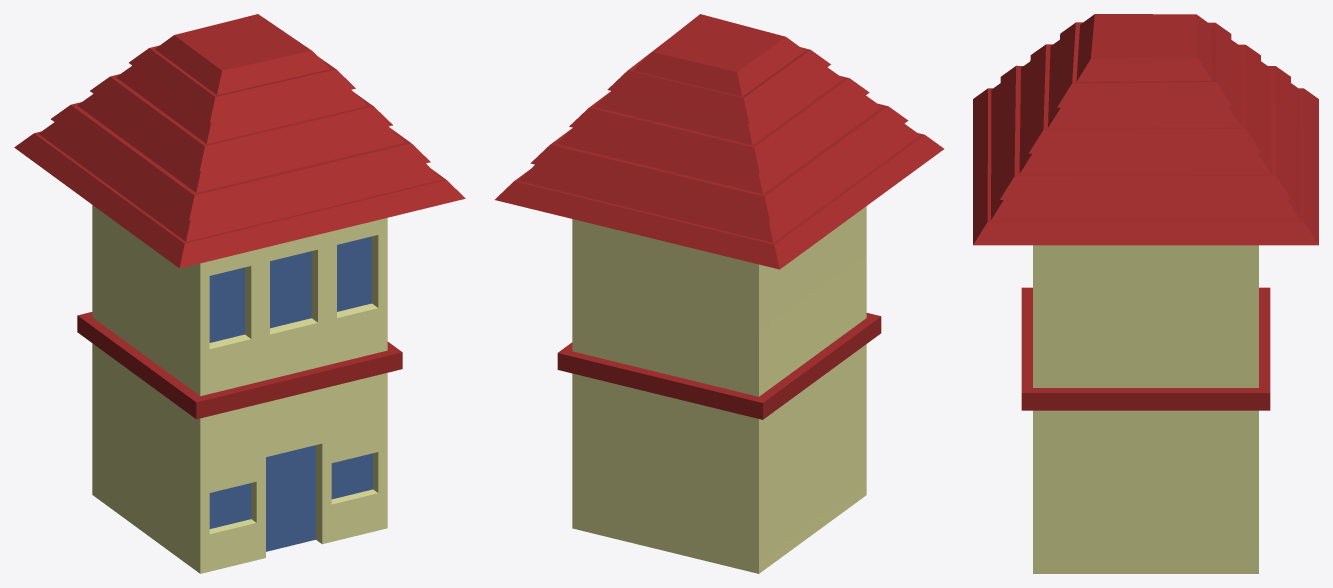
The model's file is 078 House.fbx.
3 renders of one model, left to right at view 1: azimuth 30°, elevation 25°; view 2: azimuth 150°, elevation 25°; view 3: azimuth 270°, elevation 25°, orthographic. The views are drawn at different scales.
Visible parts, largest first — view 1: Lowpoly_Christmas_Pack_078:pCube1; view 2: Lowpoly_Christmas_Pack_078:pCube1; view 3: Lowpoly_Christmas_Pack_078:pCube1.
Boxes of the visible parts, x1=… form: Lowpoly_Christmas_Pack_078:pCube1: x1=14, y1=14, x2=465, y2=573; Lowpoly_Christmas_Pack_078:pCube1: x1=495, y1=14, x2=943, y2=573; Lowpoly_Christmas_Pack_078:pCube1: x1=973, y1=14, x2=1318, y2=573.
Size of the model in its own units: 1.53 by 2.39 by 1.53.
